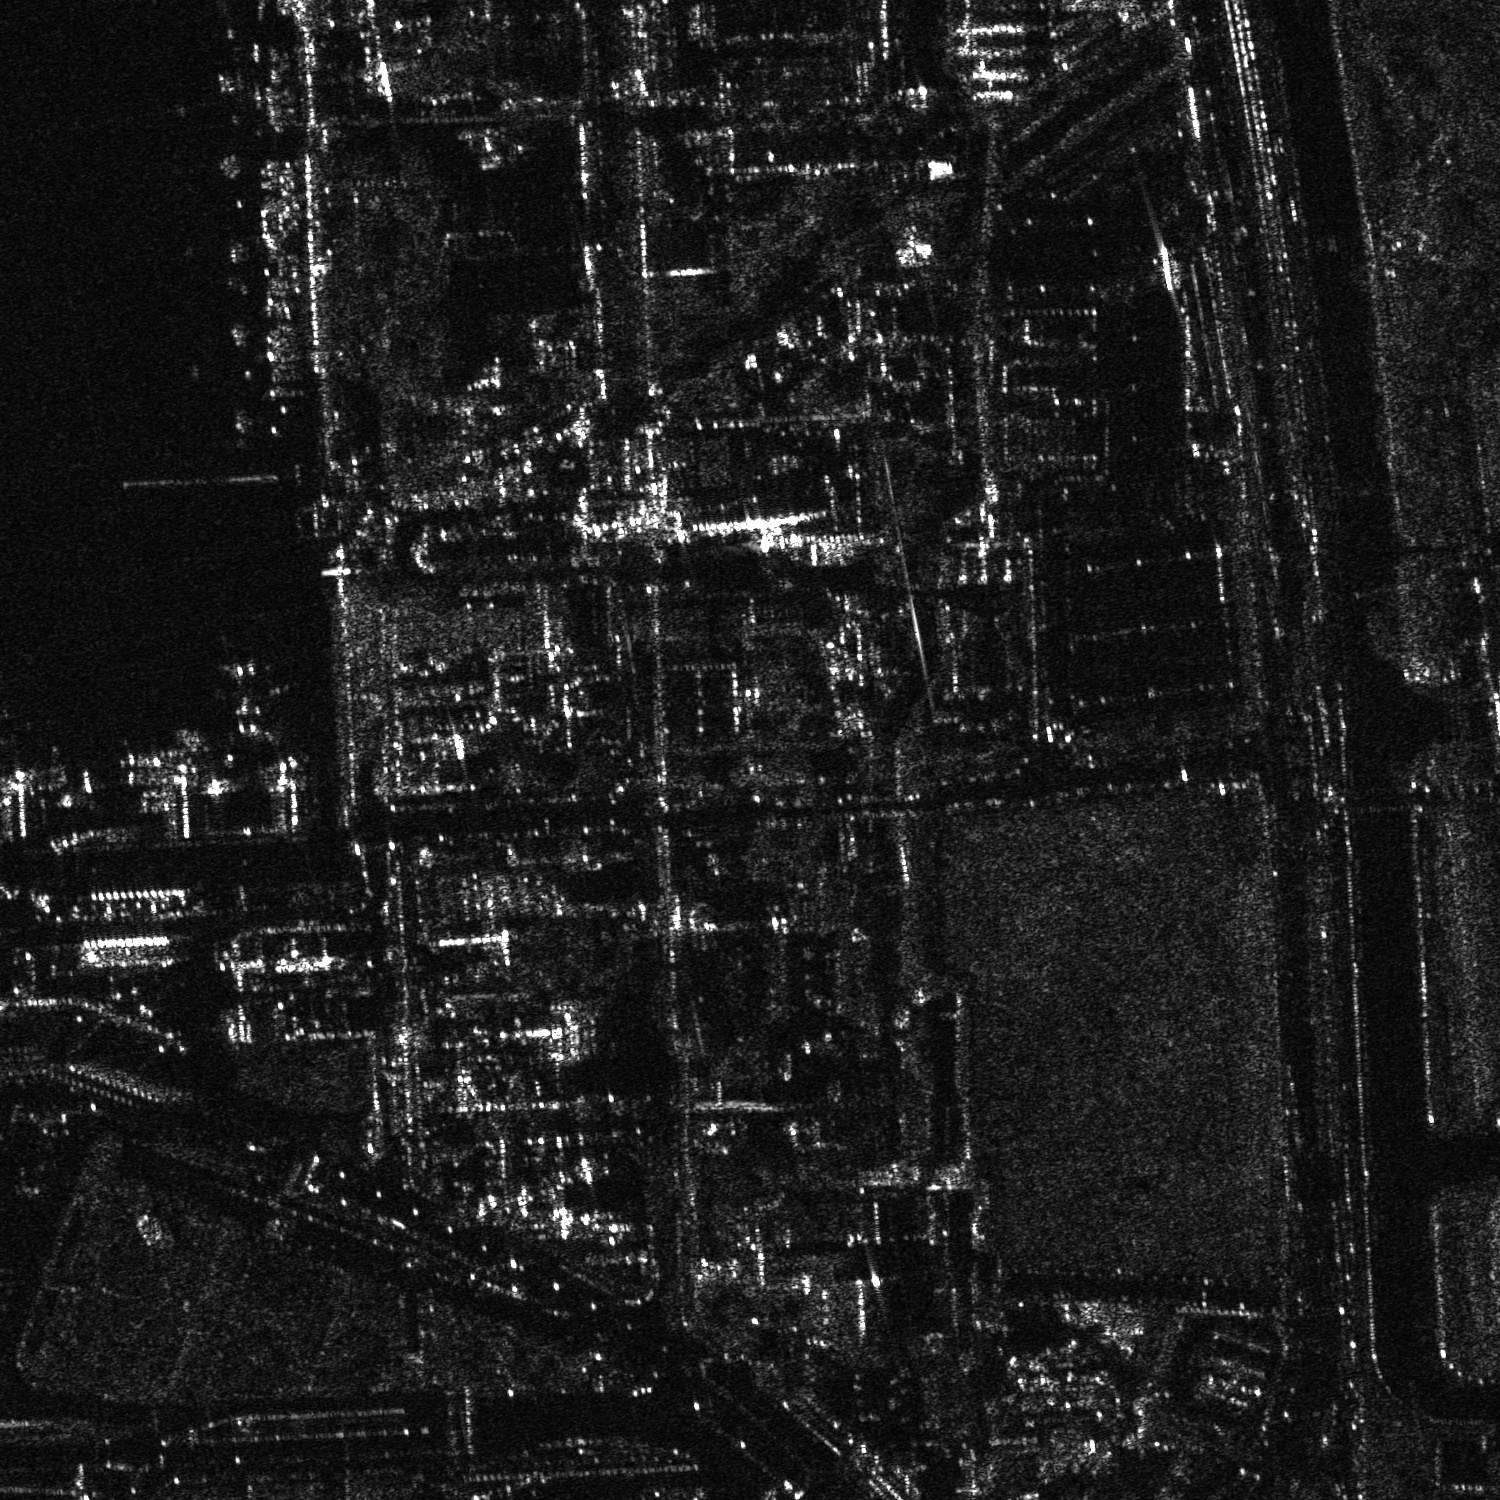A220: (205, 659, 297, 745)
